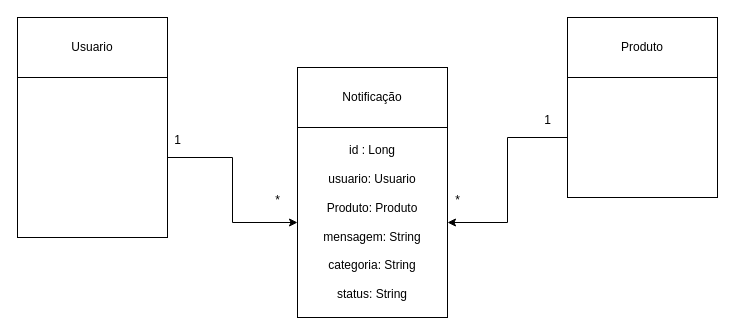
This 735x335 diagram has some shape labels left out. The centre of each missing label's shape, as x and y in pixels:
"cpf: String nome: String sobrenome: String email: String senha: String" belongs at point (92, 157).
"id: Long nome: String preco: double categoria: String" belongs at point (642, 137).
